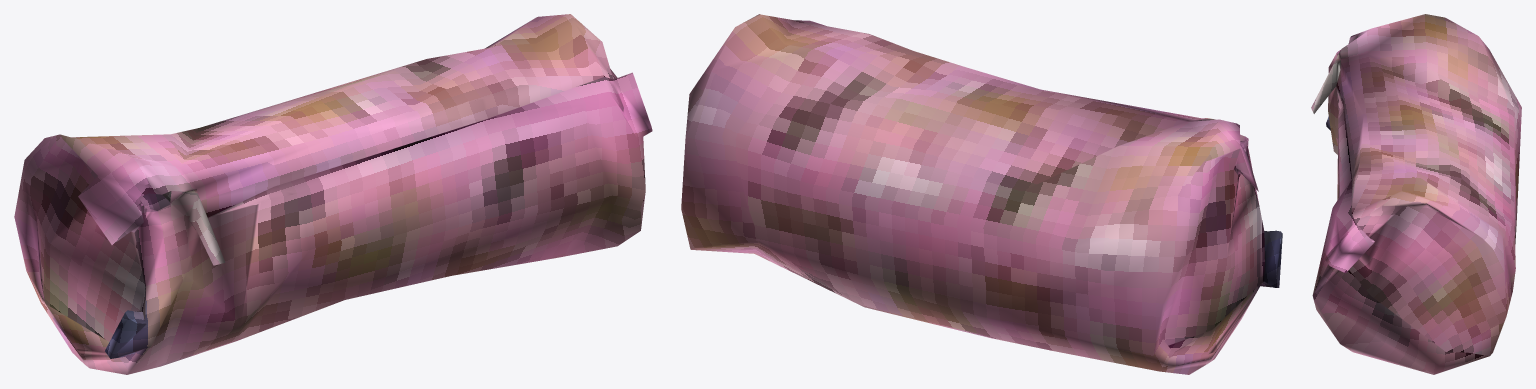
Rendered from Horses_in_Pink_Pencil_Case-low.glb.
The picture shows the model from 3 angles, left to right: view 1: azimuth 30°, elevation 25°; view 2: azimuth 150°, elevation 25°; view 3: azimuth 270°, elevation 25°; orthographic projection. The views are drawn at different scales.
Parts seen in each view (by area): view 1: Horses_in_Pink_Pencil_Case; view 2: Horses_in_Pink_Pencil_Case; view 3: Horses_in_Pink_Pencil_Case.
Boxes of the visible parts, x1,y1,x2,y2 form: Horses_in_Pink_Pencil_Case: [14, 14, 652, 374]; Horses_in_Pink_Pencil_Case: [681, 14, 1282, 374]; Horses_in_Pink_Pencil_Case: [1311, 14, 1521, 374].
Bounding box in the file's own units: 0.2112 × 0.0873 × 0.0915.
Materials: 1 (1 with a texture image).
